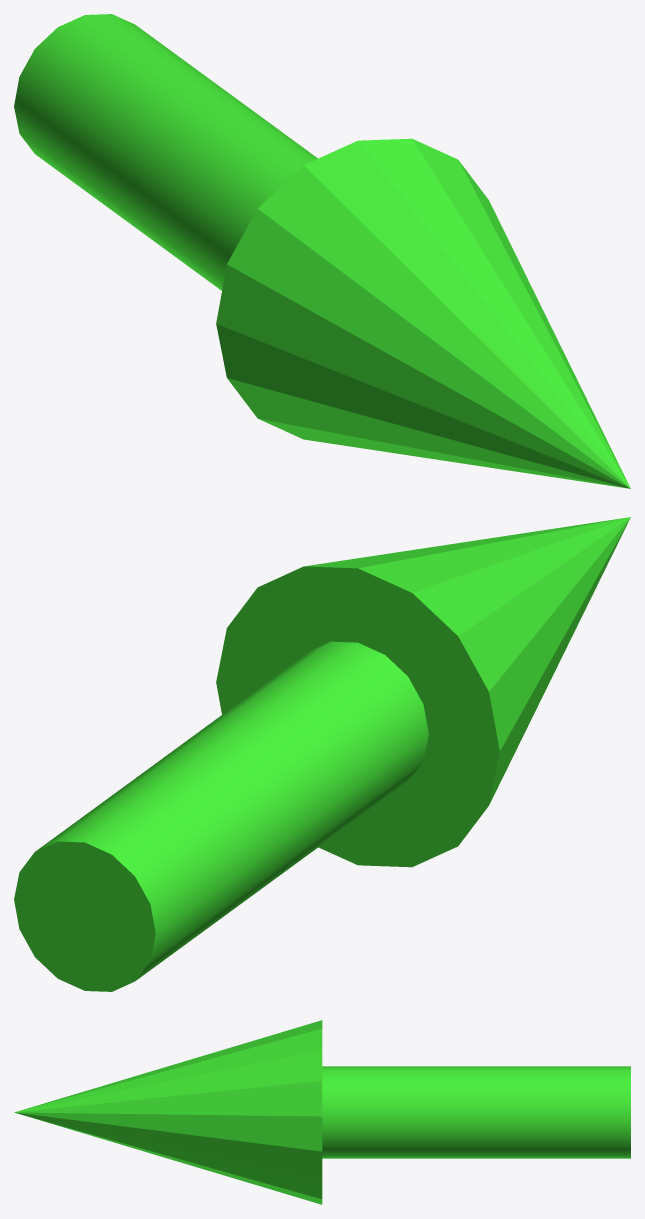
The model's file is Arrow.fbx.
3 views of the same model, one above another, from view 1: azimuth 30°, elevation 25°; view 2: azimuth 150°, elevation 25°; view 3: azimuth 270°, elevation 25° (orthographic). The views are drawn at different scales.
Visible parts, largest first — view 1: Cone01, Cylinder01; view 2: Cylinder01, Cone01; view 3: Cone01, Cylinder01.
Boxes of the visible parts, left/top/right/bottom form: Cone01: left=216, top=138, right=630, bottom=488; Cylinder01: left=14, top=14, right=317, bottom=290; Cylinder01: left=14, top=641, right=428, bottom=991; Cone01: left=216, top=517, right=630, bottom=867; Cone01: left=14, top=1020, right=322, bottom=1204; Cylinder01: left=322, top=1066, right=630, bottom=1158.
Size of the model in its own units: 1.2 by 1.2 by 4.
